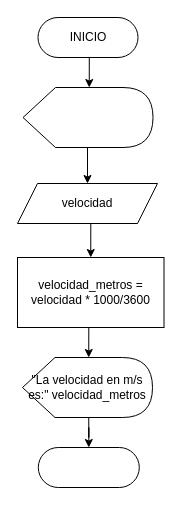
This 182x505 diagram has some shape labels left out. The shapes that lost their labels are listed below. From the top down, each one's box as (x1, y1, x2, y2) in pixels, then its label:
(22, 86, 153, 148): Ingrese una velocidad en km/h
(37, 446, 139, 488): FIN
